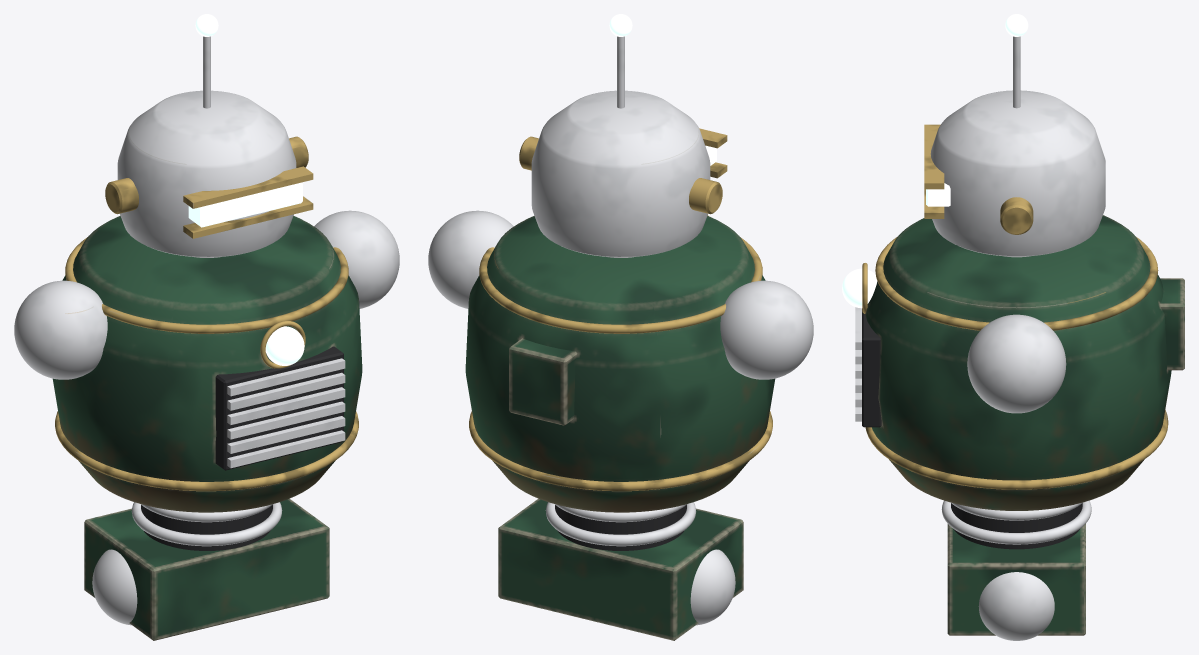
Rendered from sentry_body.glb.
3 renders of one model, left to right at view 1: azimuth 30°, elevation 25°; view 2: azimuth 150°, elevation 25°; view 3: azimuth 270°, elevation 25°, orthographic.
Visible parts, largest first — view 1: sentry_body; view 2: sentry_body; view 3: sentry_body.
Part boxes in pixels (x1,y1,x2,y2): sentry_body: (14,14,399,640); sentry_body: (428,14,813,640); sentry_body: (842,14,1184,640).
Bounding box in the file's own units: 1.3 × 1.97 × 1.04.
5 materials, 3 textured.
